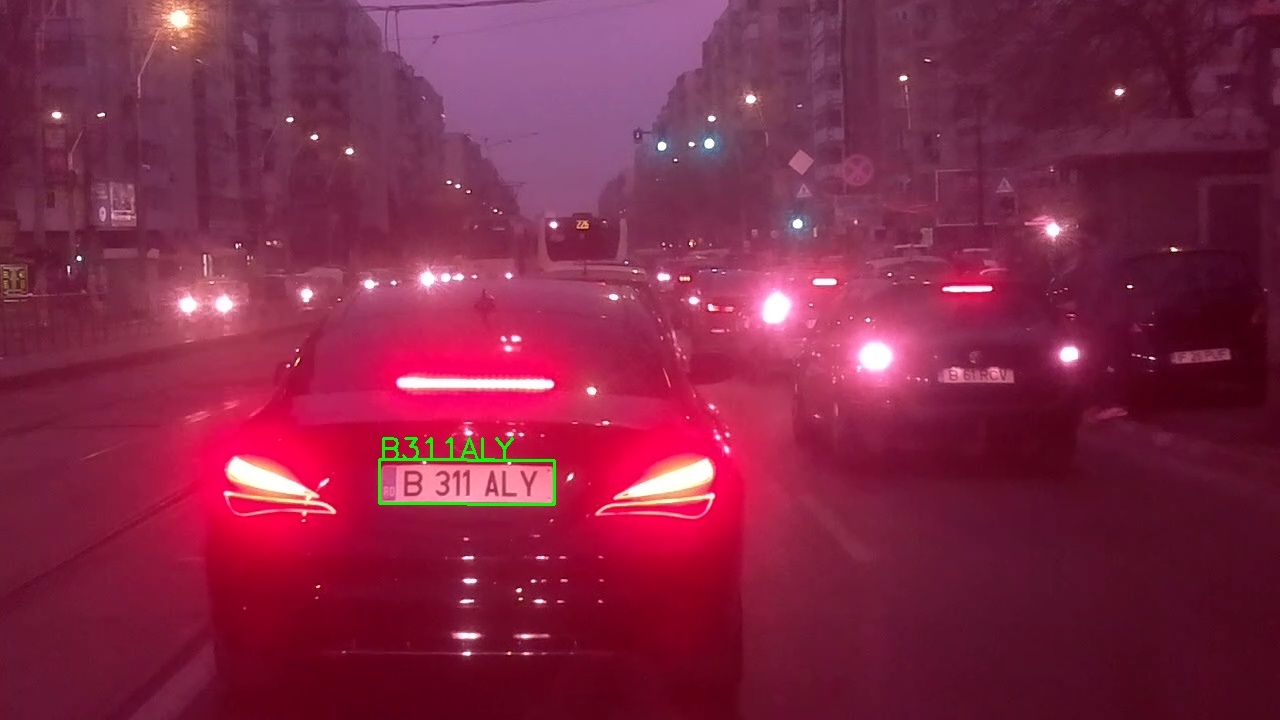license-plate: (378, 459, 556, 506)
